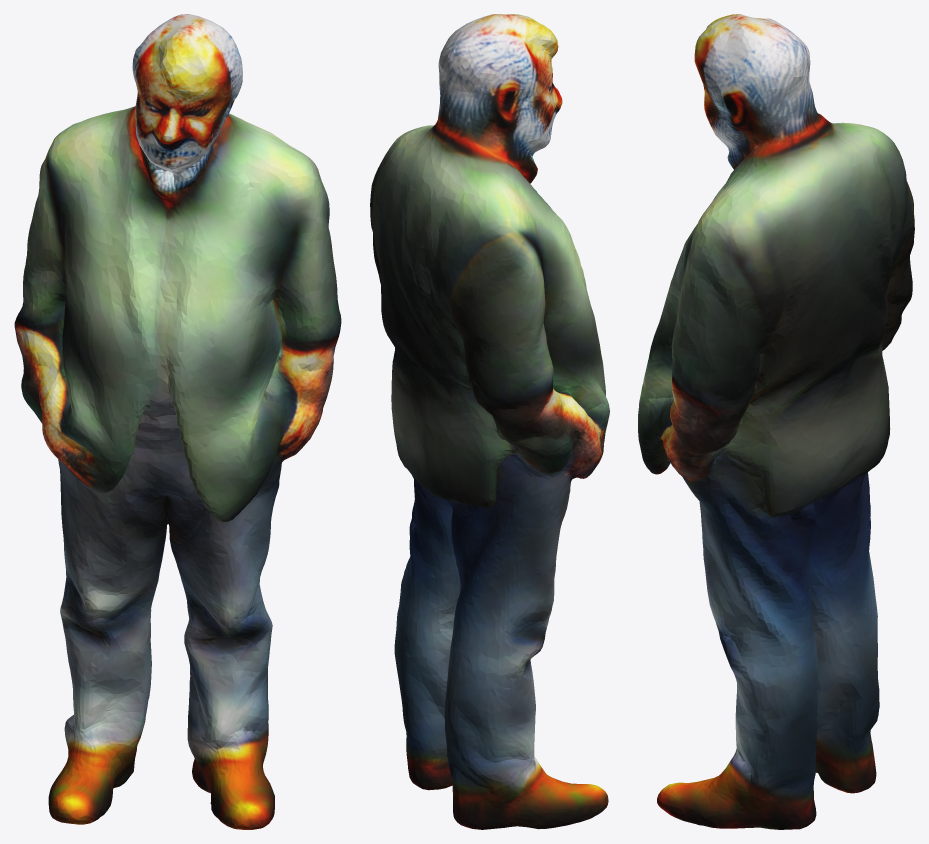
Rendered from old_man_m1.glb.
The picture shows the model from 3 angles, left to right: view 1: azimuth 30°, elevation 25°; view 2: azimuth 150°, elevation 25°; view 3: azimuth 270°, elevation 25°; orthographic projection. The views are drawn at different scales.
Parts seen in each view (by area): view 1: fine_mesh; view 2: fine_mesh; view 3: fine_mesh.
Part boxes in pixels (left/top/right/bottom): fine_mesh: left=14, top=14, right=341, bottom=829; fine_mesh: left=370, top=14, right=609, bottom=829; fine_mesh: left=638, top=14, right=914, bottom=829.
Bounding box in the file's own units: 0.5468 × 1.6 × 0.5147.
1 material, 1 textured.
